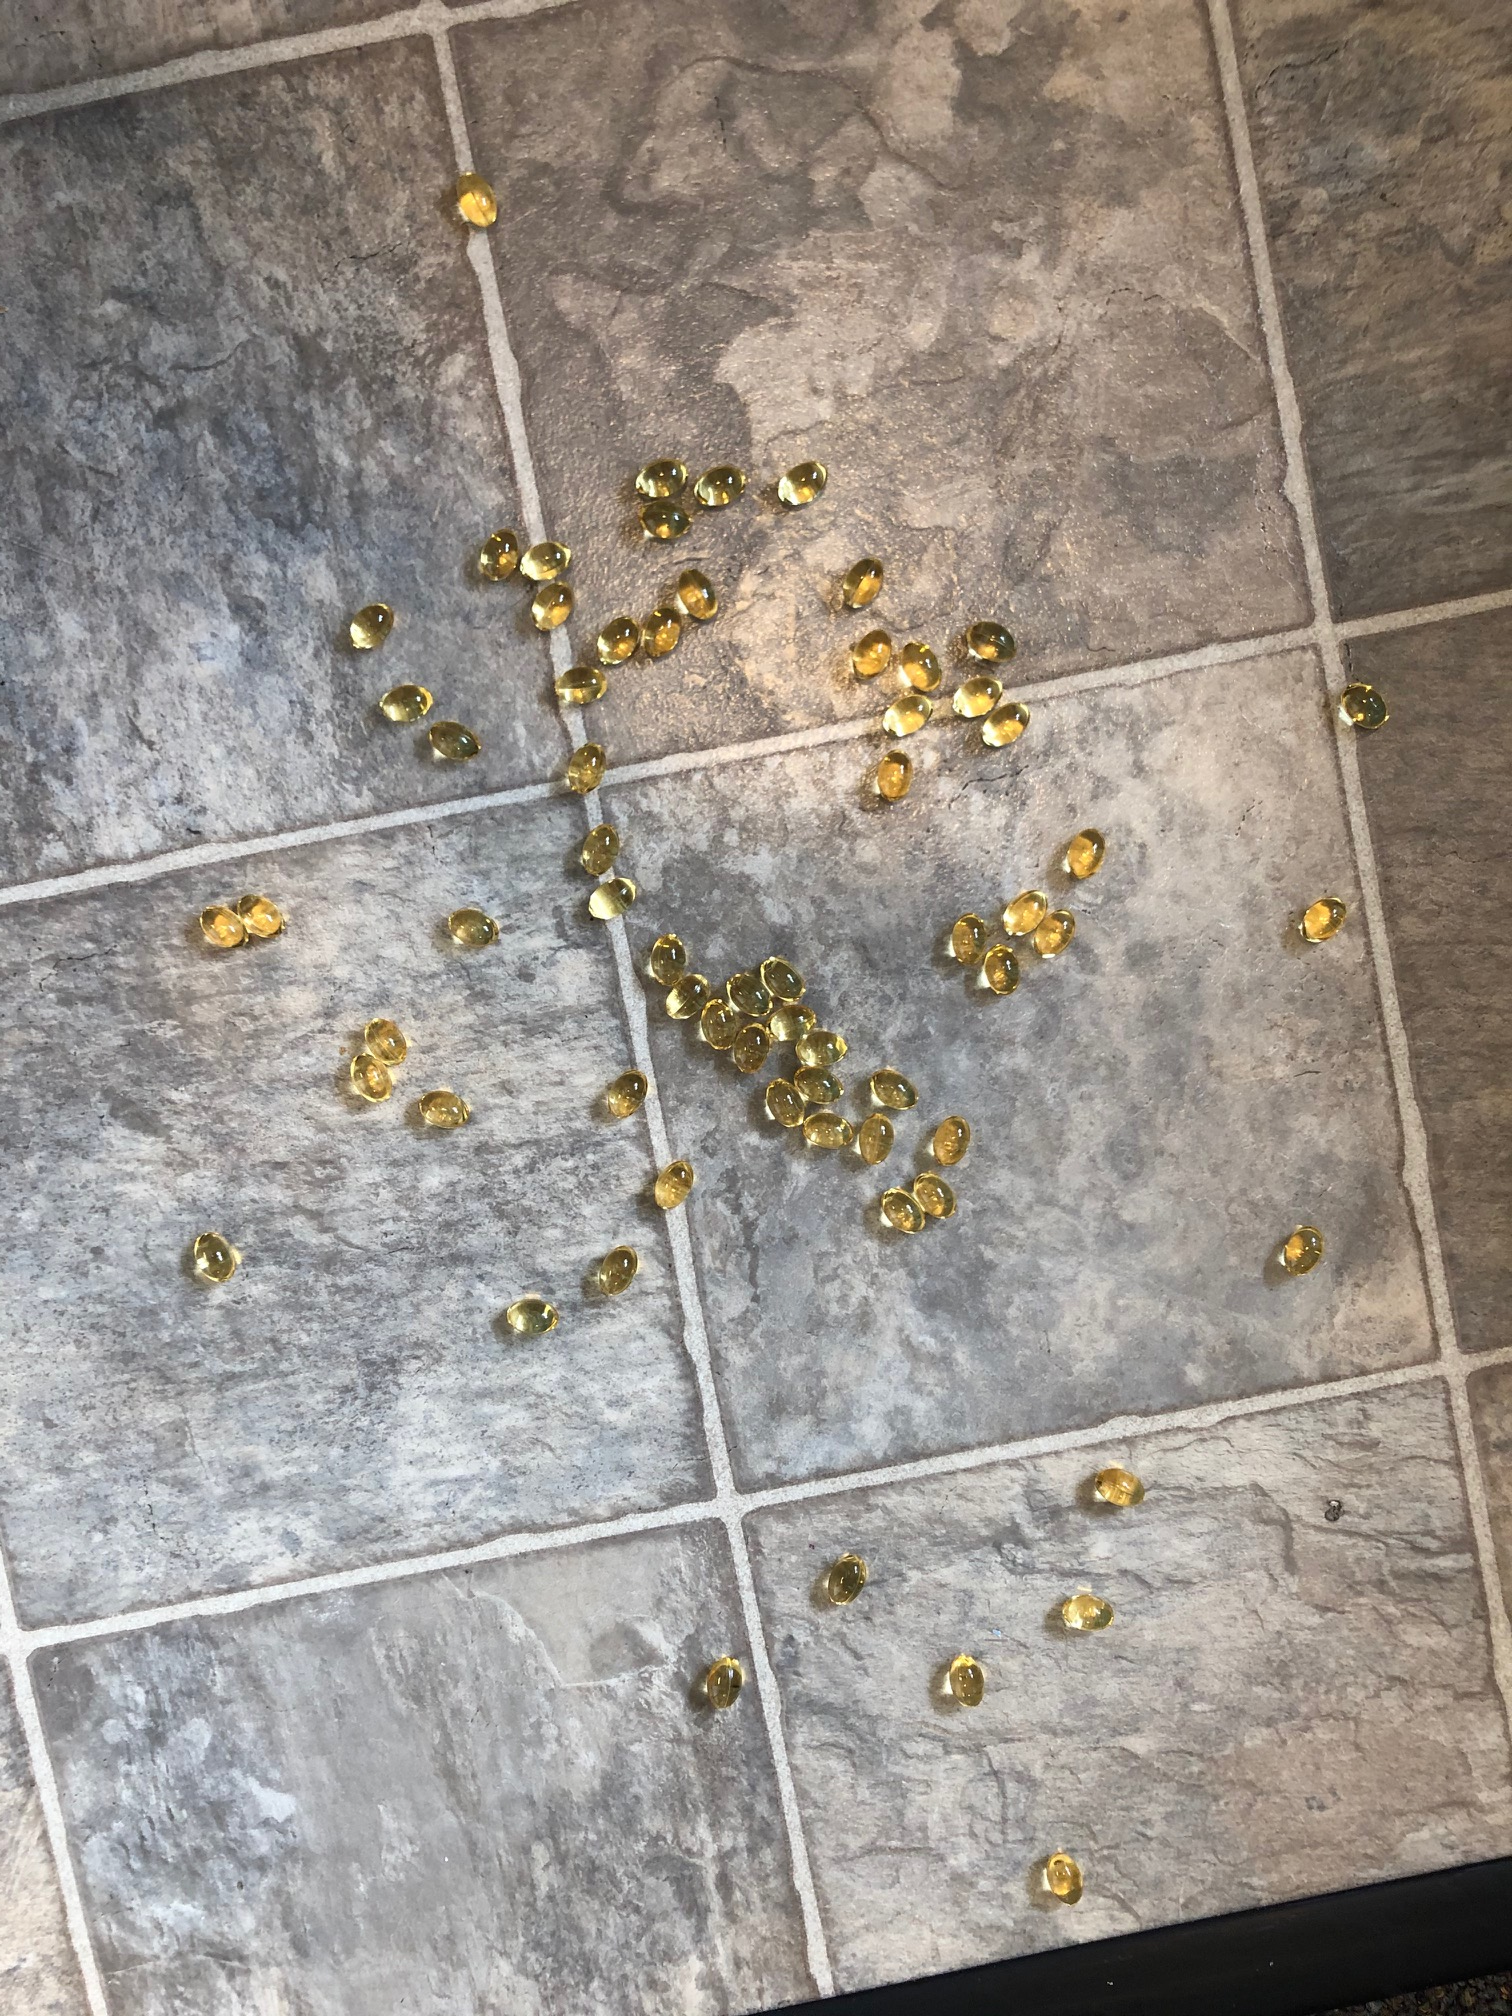gel: (442, 168, 502, 235), (816, 1548, 867, 1618), (548, 656, 611, 711), (689, 459, 753, 513), (1039, 1848, 1090, 1913), (670, 564, 723, 625), (341, 598, 397, 656), (527, 576, 583, 633), (1333, 681, 1390, 737), (980, 937, 1028, 1003), (192, 902, 253, 954), (580, 871, 640, 924), (797, 1103, 858, 1156), (438, 906, 503, 954), (978, 697, 1036, 751), (994, 886, 1051, 940), (1051, 1587, 1112, 1638), (1063, 824, 1112, 886), (835, 557, 889, 613), (233, 889, 287, 945), (357, 1014, 413, 1068), (877, 691, 937, 740), (646, 929, 696, 989), (373, 683, 440, 727), (475, 527, 523, 589), (697, 994, 743, 1057), (875, 1184, 928, 1240), (192, 1230, 241, 1289), (427, 716, 488, 764), (515, 540, 577, 586), (1275, 1222, 1328, 1276), (343, 1056, 399, 1106), (699, 1657, 754, 1708), (592, 614, 642, 671), (896, 637, 945, 694), (945, 911, 994, 968), (758, 949, 807, 1006), (638, 497, 697, 544), (503, 1294, 562, 1341), (727, 1018, 775, 1076), (631, 457, 692, 502), (602, 1068, 653, 1122), (724, 967, 775, 1021), (872, 1064, 923, 1118), (928, 1113, 977, 1168), (775, 459, 832, 506), (788, 1059, 845, 1106), (853, 1110, 901, 1167), (638, 603, 685, 662), (1032, 902, 1078, 960), (577, 822, 623, 881), (415, 1087, 473, 1133), (1298, 895, 1348, 948), (562, 740, 611, 794), (908, 1172, 958, 1225), (1085, 1465, 1151, 1505), (653, 1156, 697, 1214), (661, 971, 712, 1022), (967, 621, 1021, 668), (597, 1241, 645, 1295), (793, 1024, 847, 1071), (758, 1079, 808, 1129), (767, 997, 820, 1045), (943, 1656, 989, 1710), (851, 625, 896, 681), (948, 676, 1004, 721), (875, 751, 916, 806)
